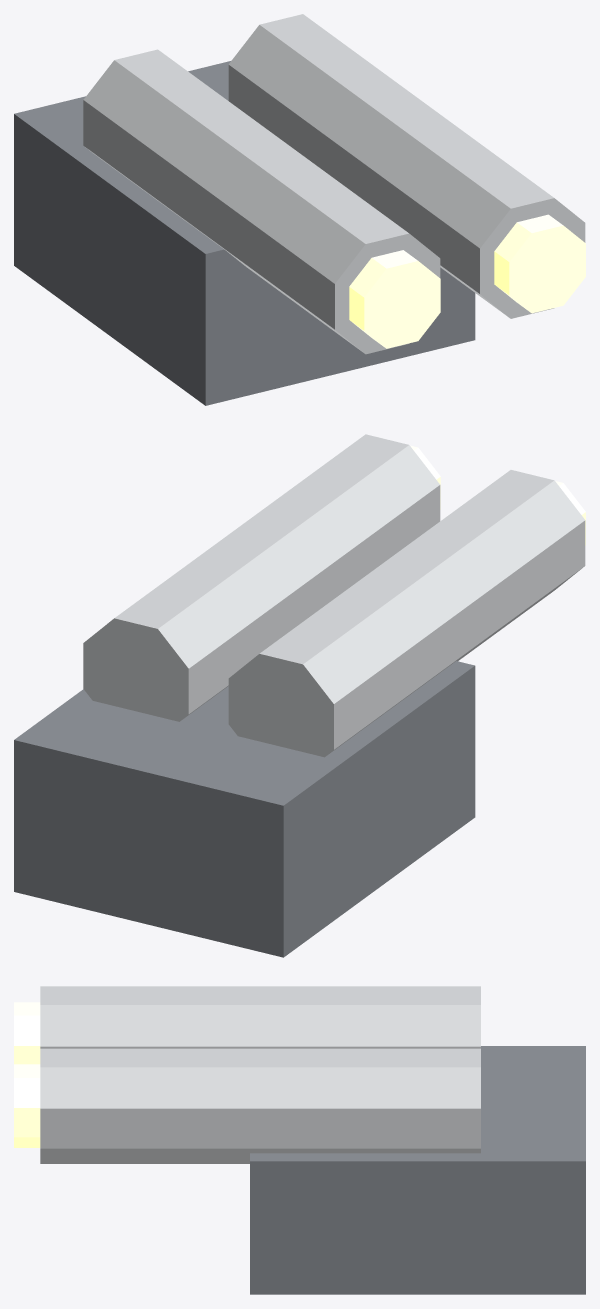
The model's file is seeker.glb.
3 renders of one model, top to bottom at view 1: azimuth 30°, elevation 25°; view 2: azimuth 150°, elevation 25°; view 3: azimuth 270°, elevation 25°, orthographic. The views are drawn at different scales.
Parts seen in each view (by area): view 1: gun; view 2: gun; view 3: gun.
Part boxes in pixels (x1,y1,x2,y2): gun: (14, 14, 585, 405); gun: (14, 434, 585, 957); gun: (14, 986, 585, 1294).
Bounding box in the file's own units: 0.26 × 0.2208 × 0.545.
